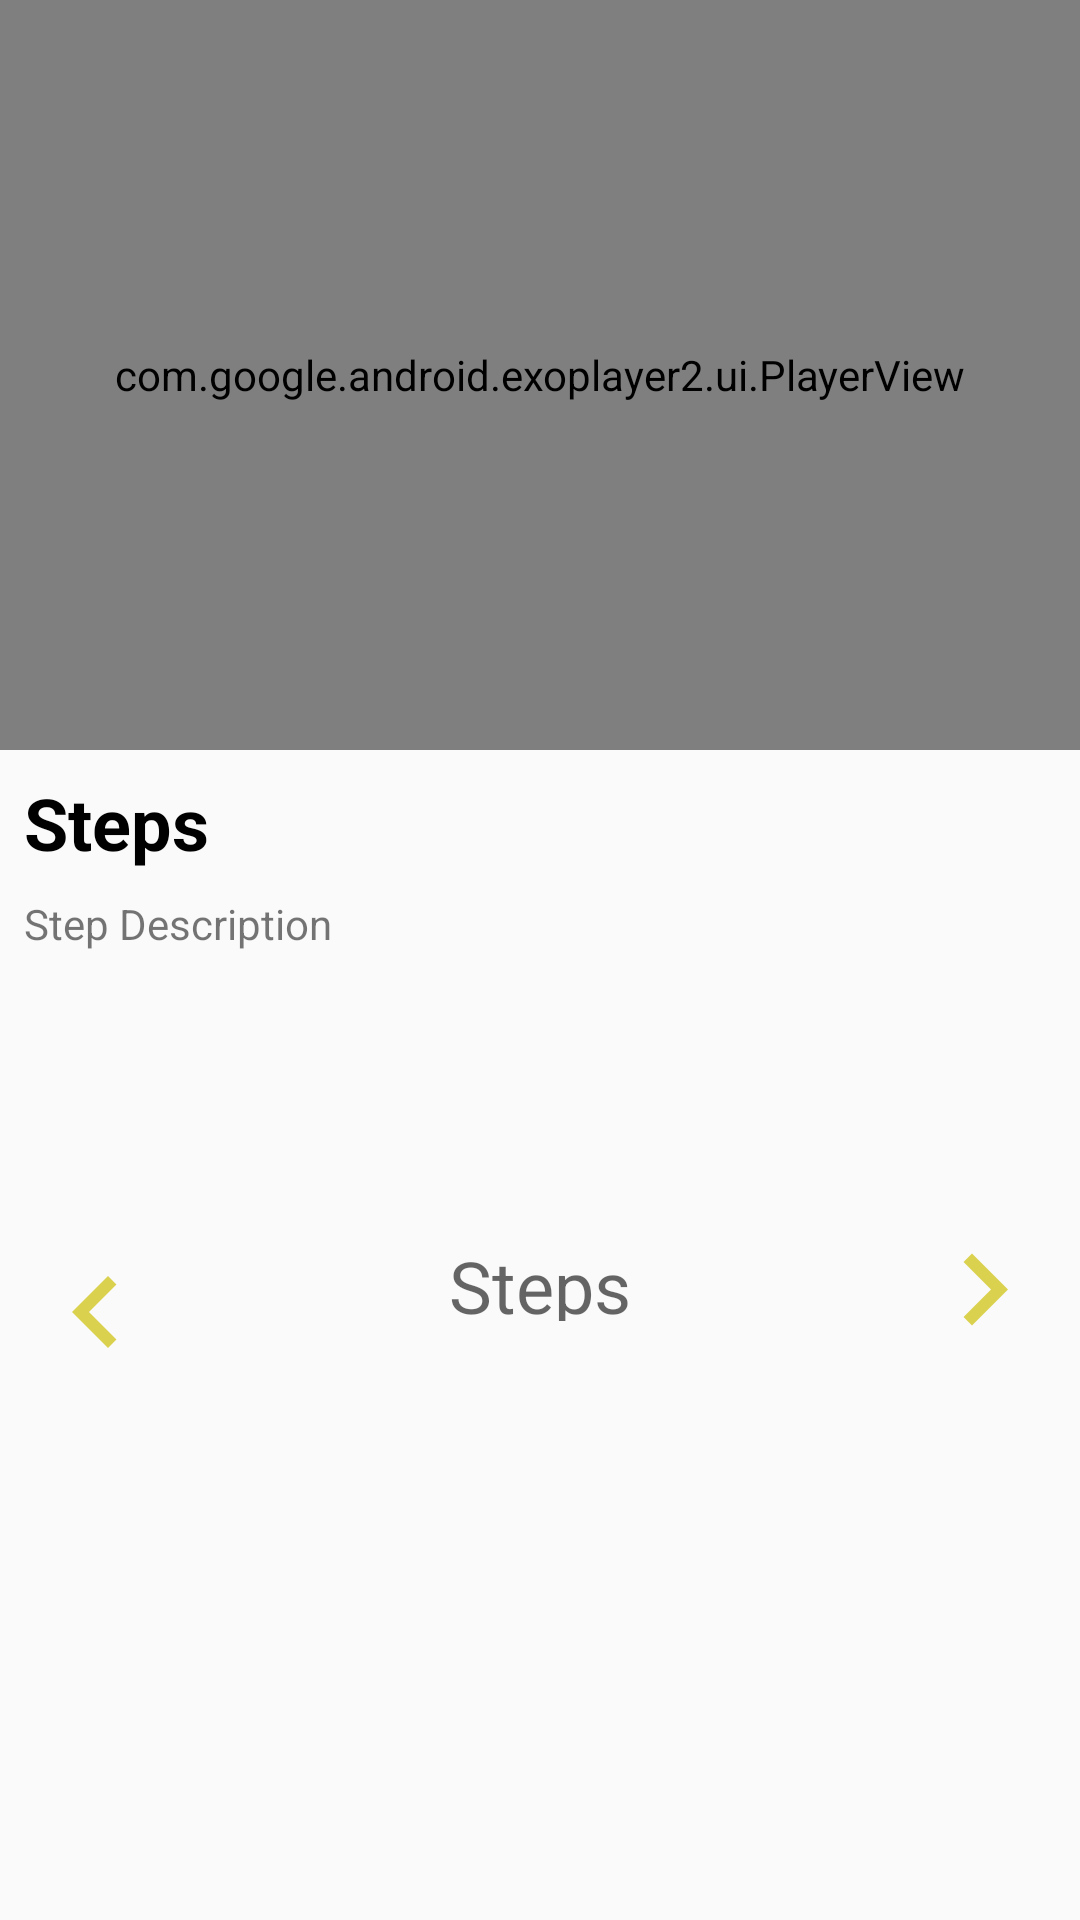

Screen size 1080px×1920px. Icon name, then its box in pixels as (x1, y1, x2, y2):
Next: (964, 1254, 1008, 1325)
previous button: (72, 1276, 117, 1348)
